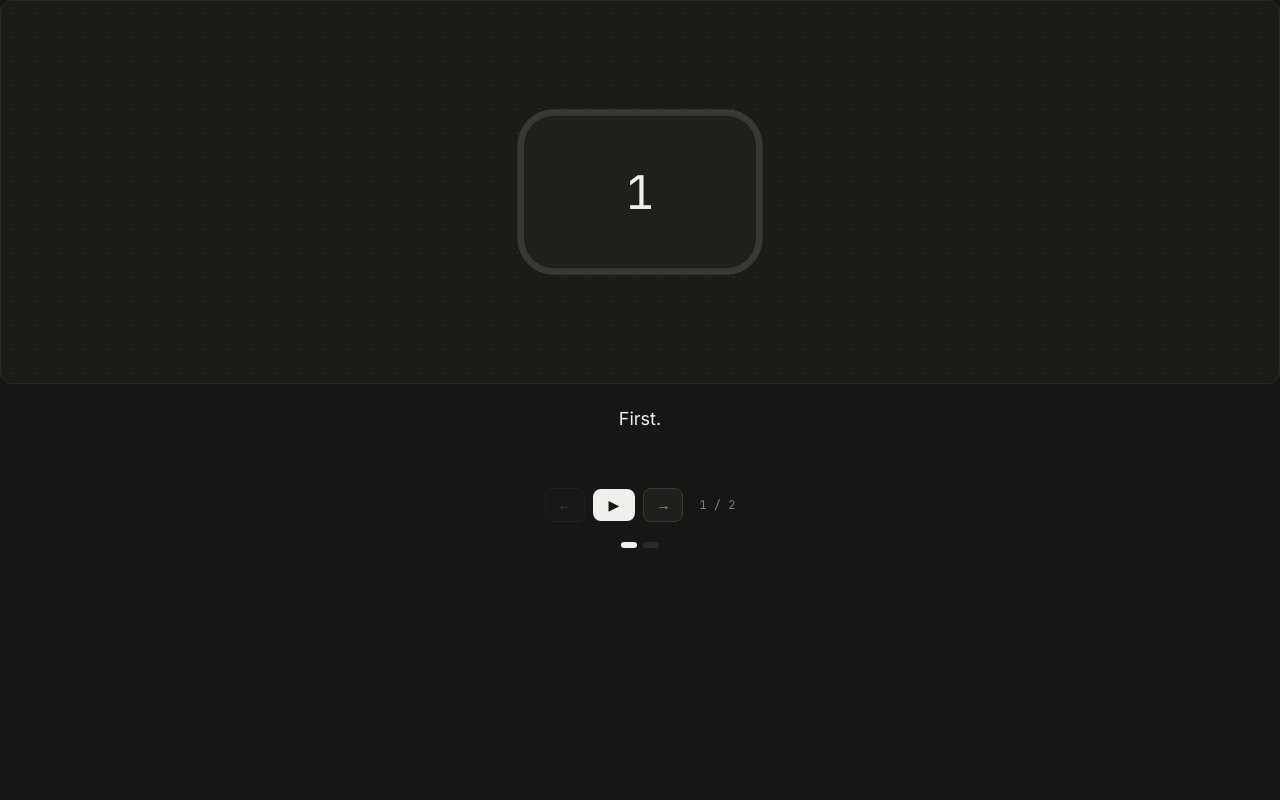
Test case: StepPlayer › shows caption, steps forward and back
expect the text "First." is shown: met, box [619,408,661,429]
Click the button named "Next step".
click(663, 505)  # box [643,488,683,522]
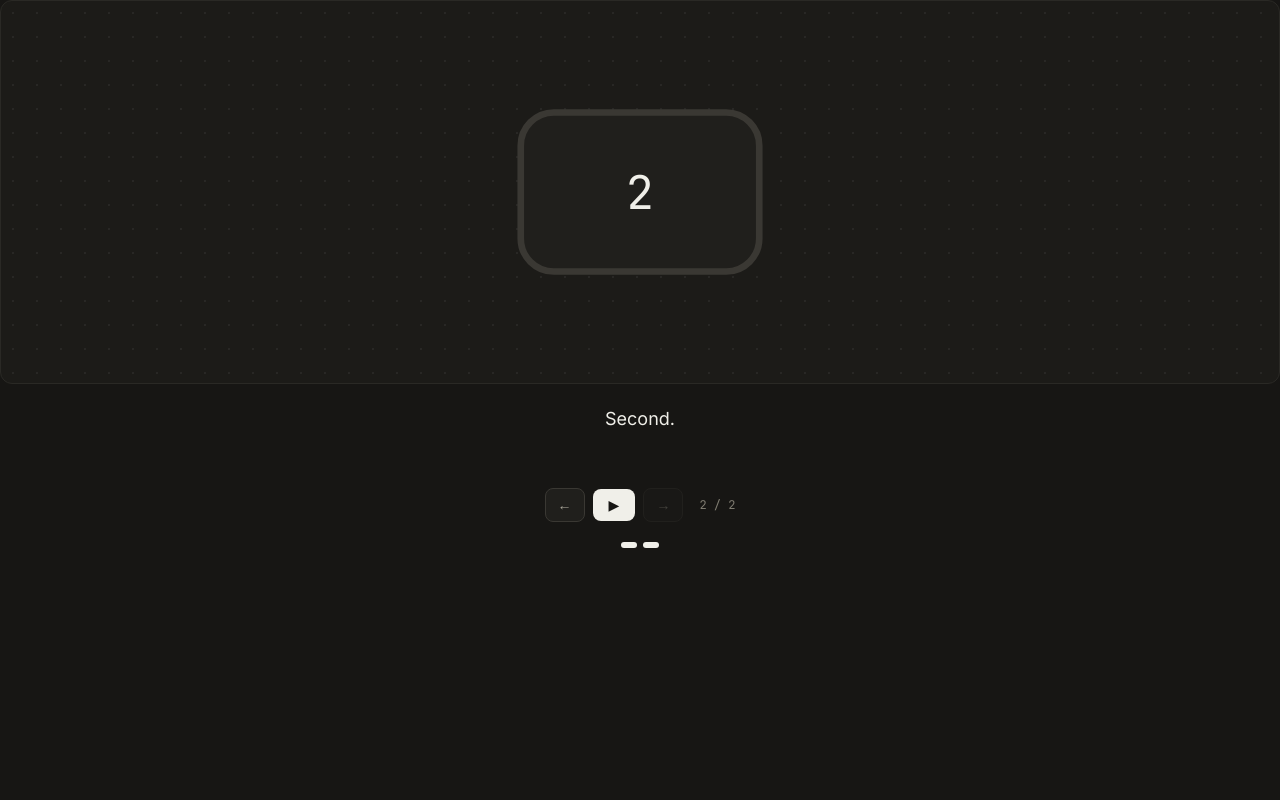
expect the text "Second." is shown: met, box [605,408,675,429]
expect the text "2 / 2" is shown: met, box [699,497,735,513]
Click the button named "Previous step".
click(565, 505)  # box [545,488,585,522]
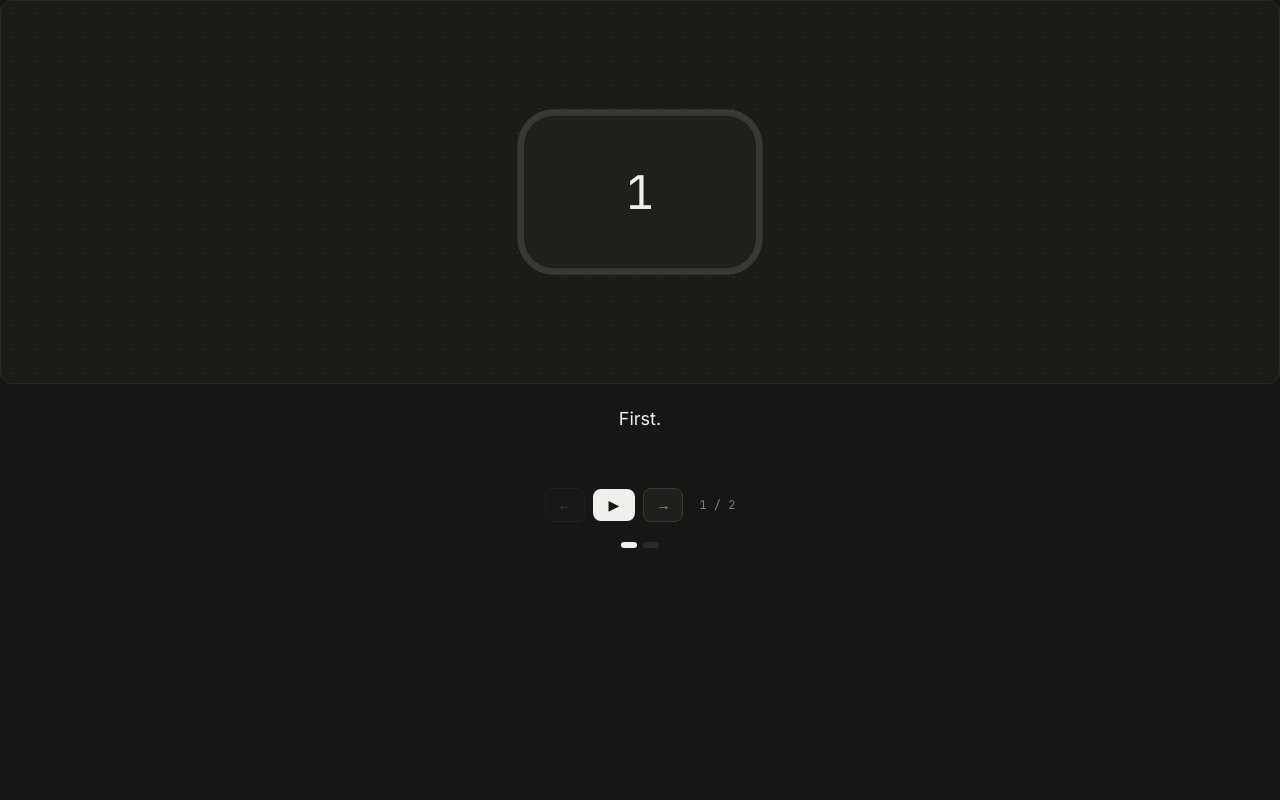
expect the text "First." is shown: met, box [619,408,661,429]
